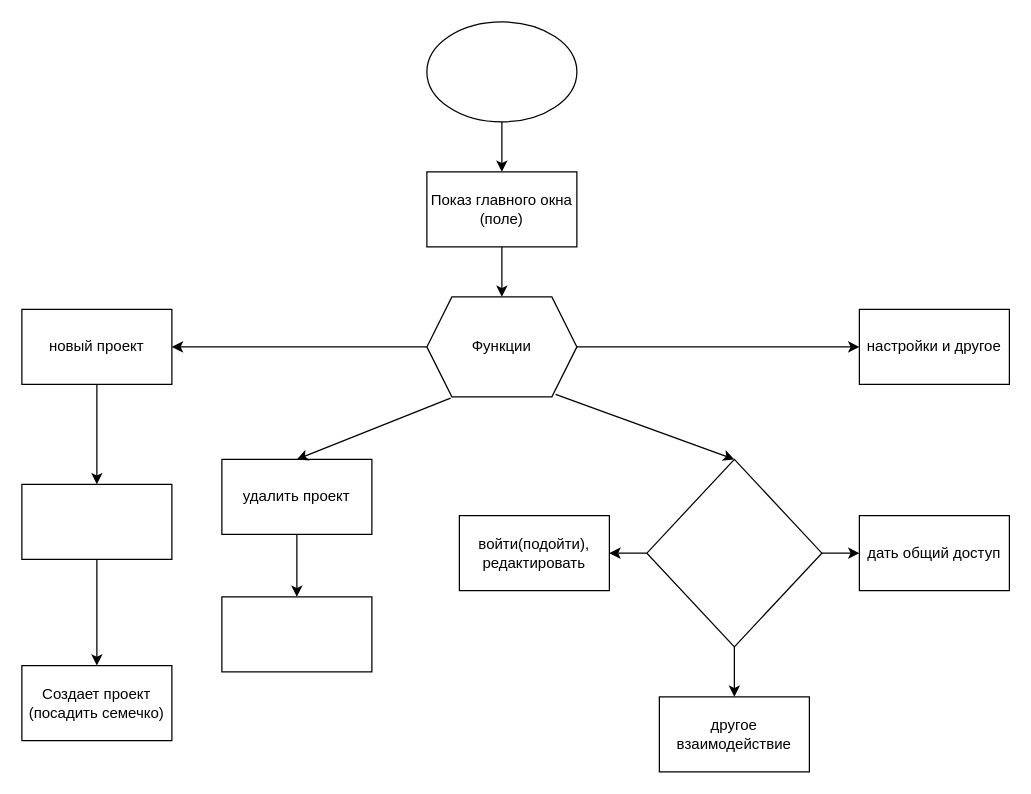
This 1031x794 diagram has some shape labels left out. Each missing label, with the centre of its shape:
"взаимодействие с проектом" belongs at (x=734, y=552).
"Запуск программы" belongs at (x=501, y=71).
"тип, описание и тд." belongs at (x=96, y=521).
"удаляет проект (выкопать дерево)" belongs at (x=296, y=634).
